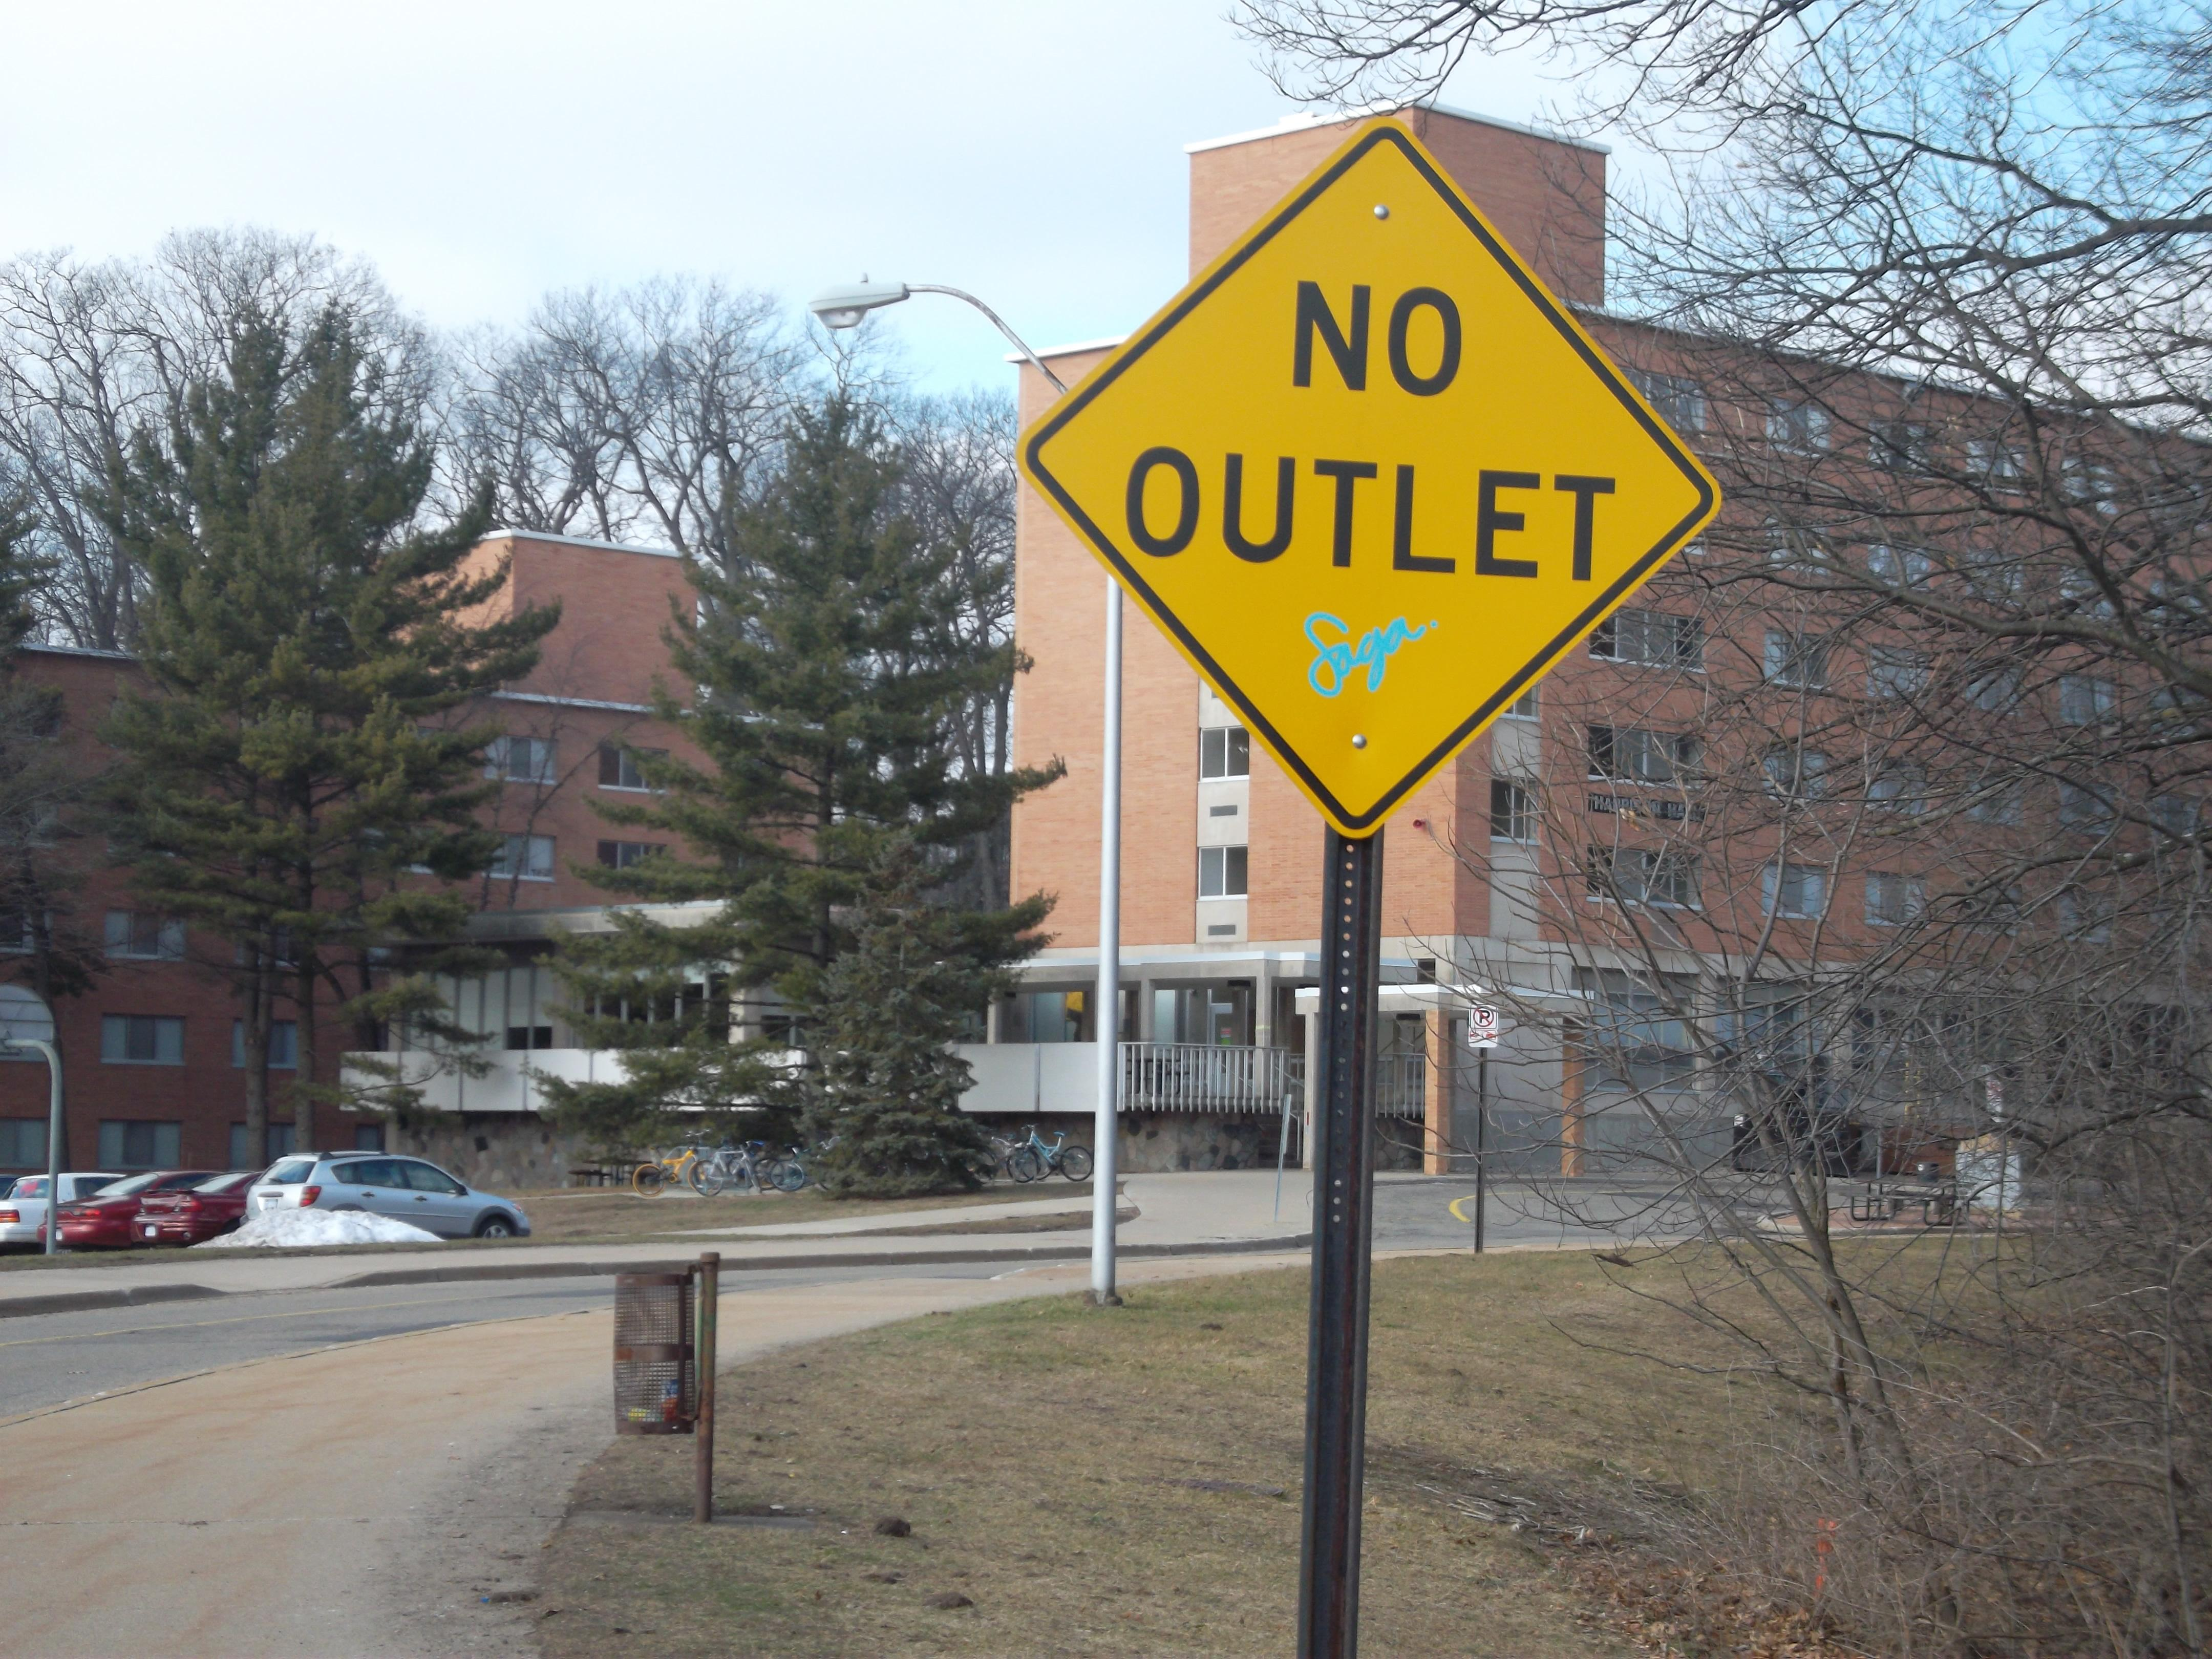warning: (1061, 127, 1724, 826)
